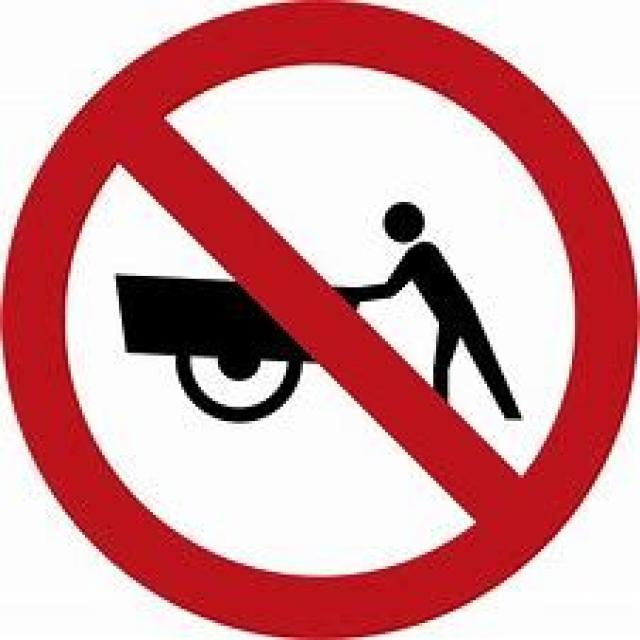railway_crossing: (0, 0, 637, 637)
